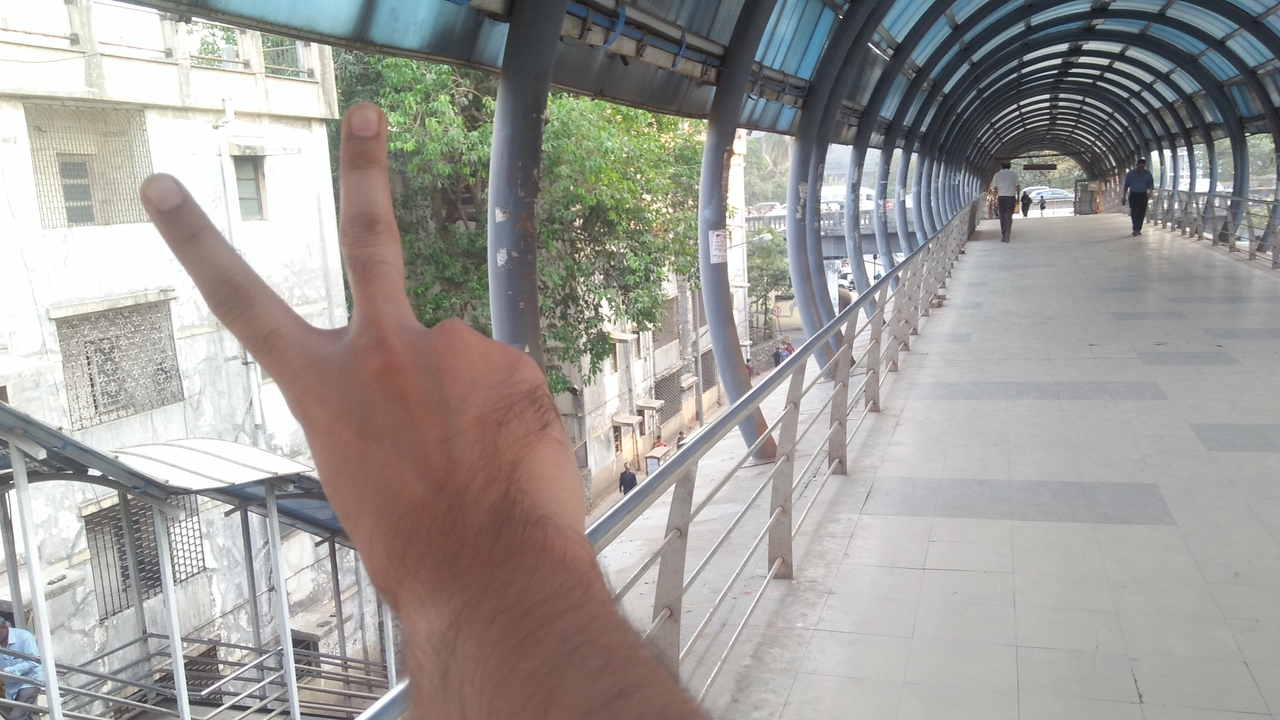fingertip: (334, 92, 386, 146), (136, 170, 188, 220)
